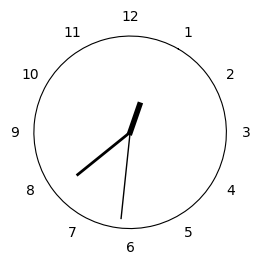12: (122, 9, 138, 23)
circle: (33, 36, 228, 230)
hours: (128, 101, 144, 135)
minutes: (76, 135, 127, 176)
seconds: (120, 136, 130, 219)
